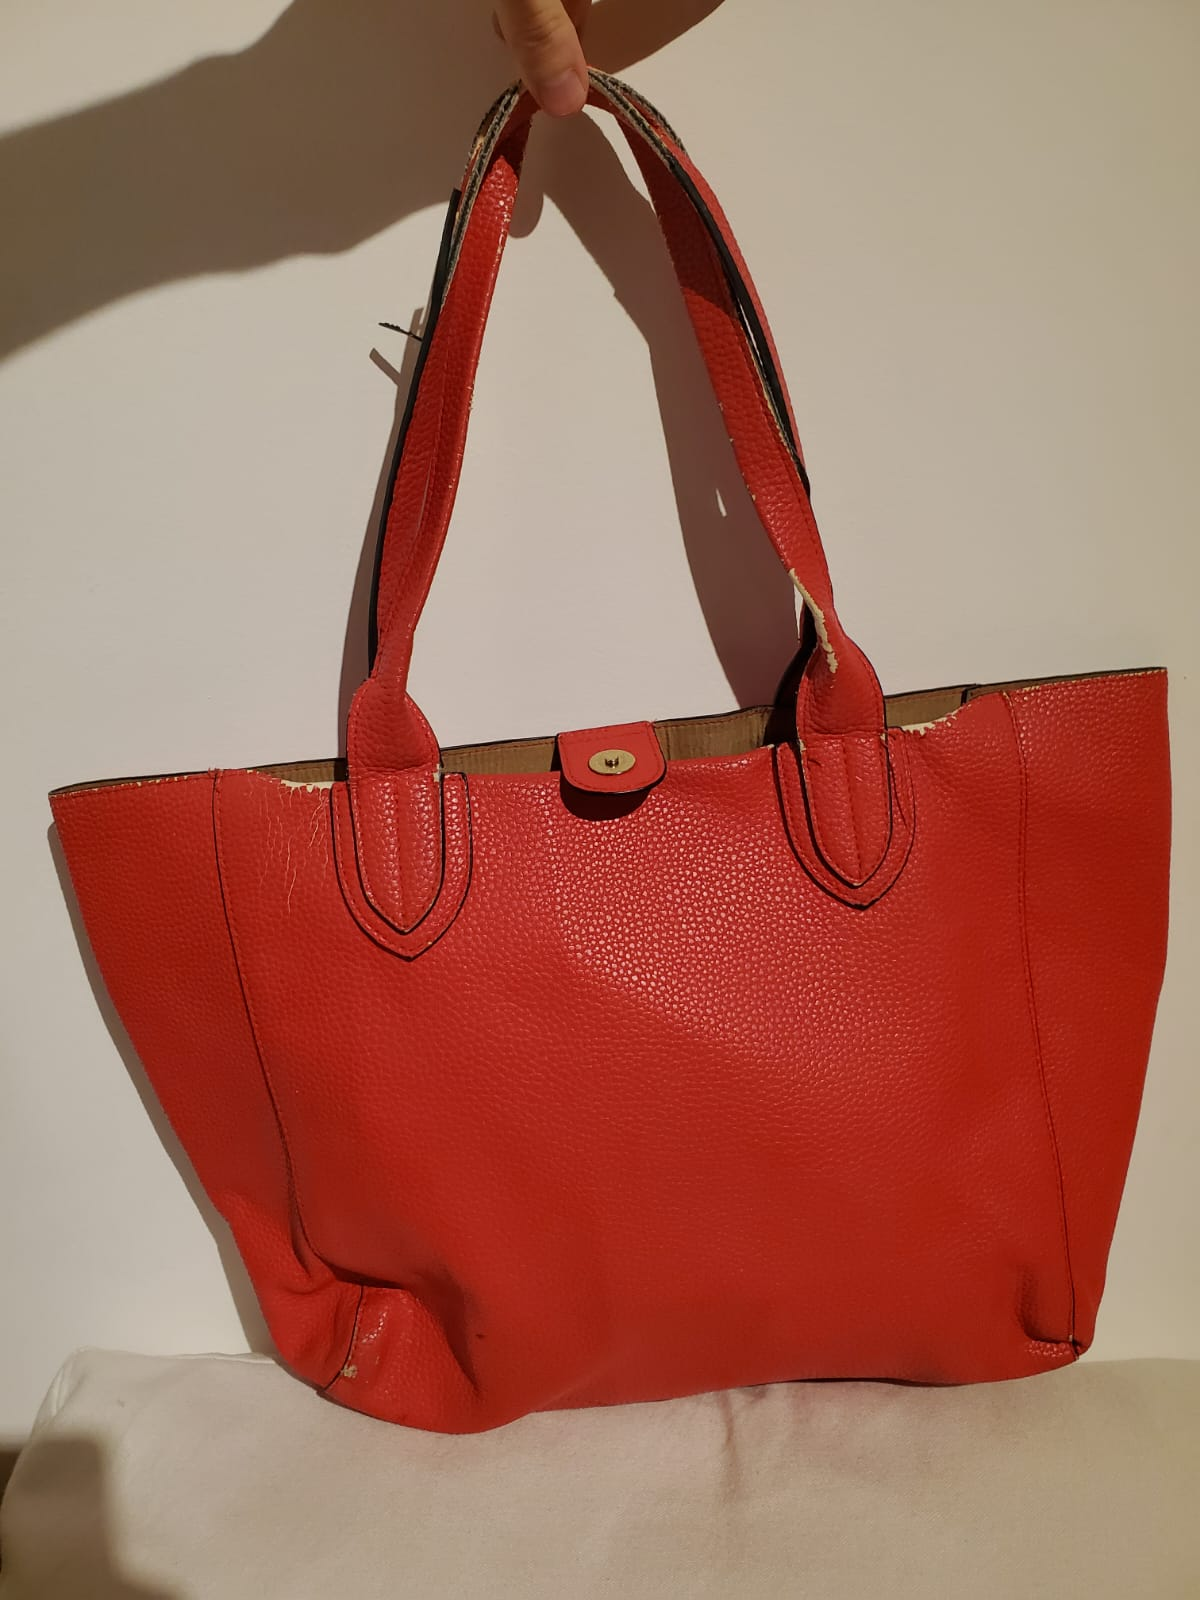cartera: (35, 64, 1191, 1445)
cuero: (260, 829, 1066, 1351)
